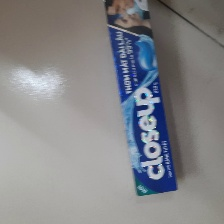CloseUp Tuyet: (102, 1, 180, 197)
